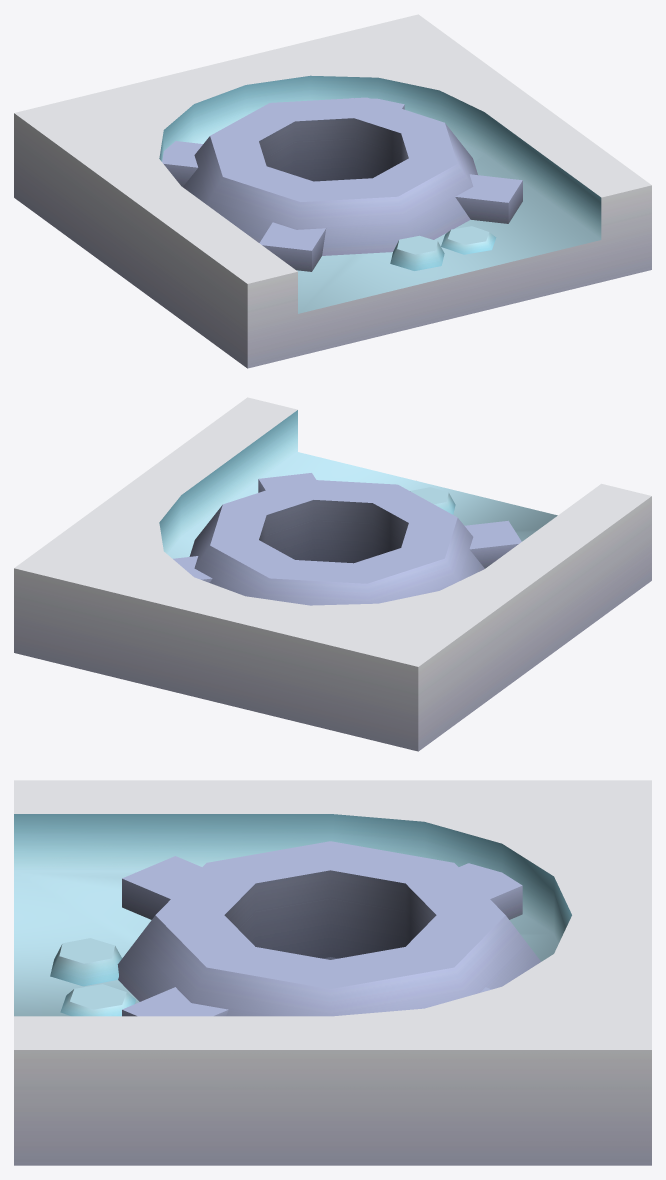
Rendered from kenney-tower-defense-snow-tile-spawn-end-round.glb.
3 renders of one model, top to bottom at view 1: azimuth 30°, elevation 25°; view 2: azimuth 150°, elevation 25°; view 3: azimuth 270°, elevation 25°, orthographic. The views are drawn at different scales.
Parts seen in each view (by area): view 1: snow-tile-spawn-end-round; view 2: snow-tile-spawn-end-round; view 3: snow-tile-spawn-end-round.
Part boxes in pixels (x1,y1,x2,y2): snow-tile-spawn-end-round: (14, 14, 651, 368); snow-tile-spawn-end-round: (14, 397, 651, 751); snow-tile-spawn-end-round: (14, 780, 651, 1165).
Size of the model in its own units: 1 by 0.2 by 1.
Materials: 1 (1 with a texture image).
